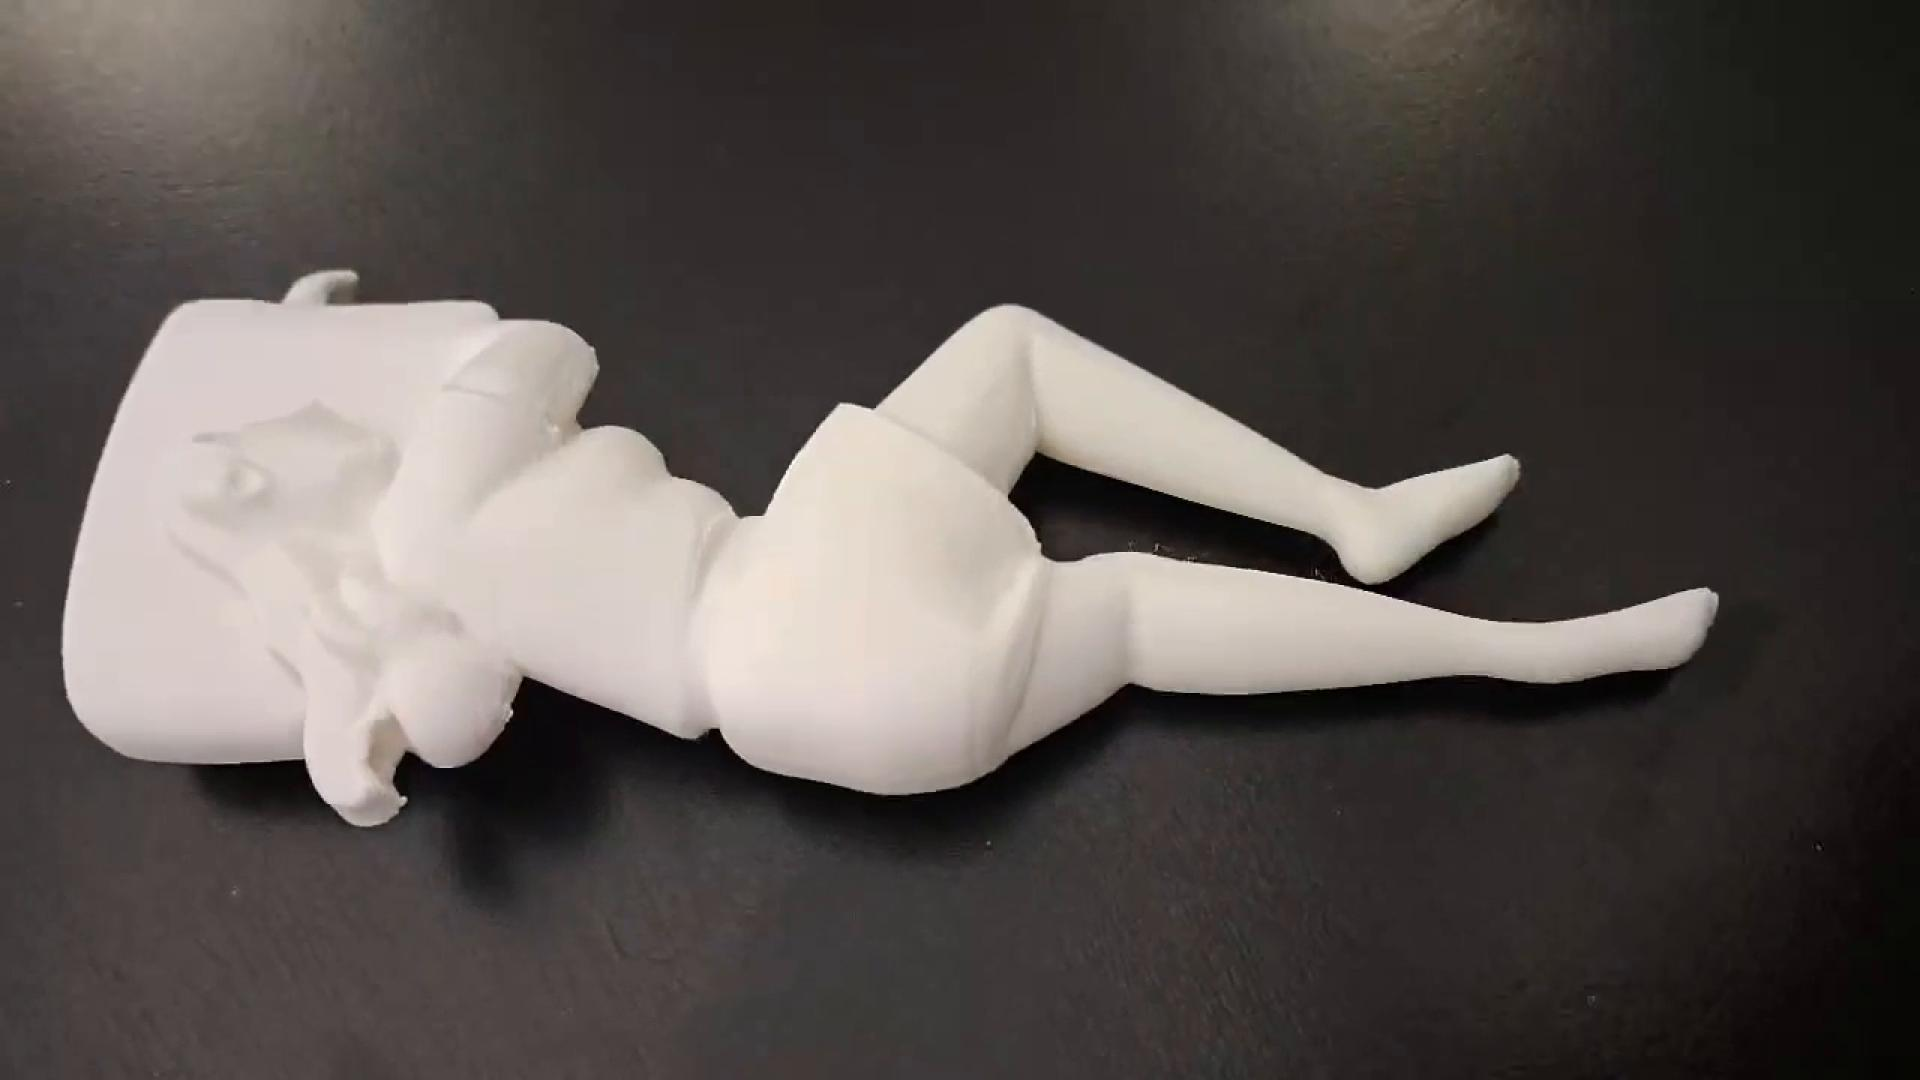Good-style: (65, 251, 1726, 828)
